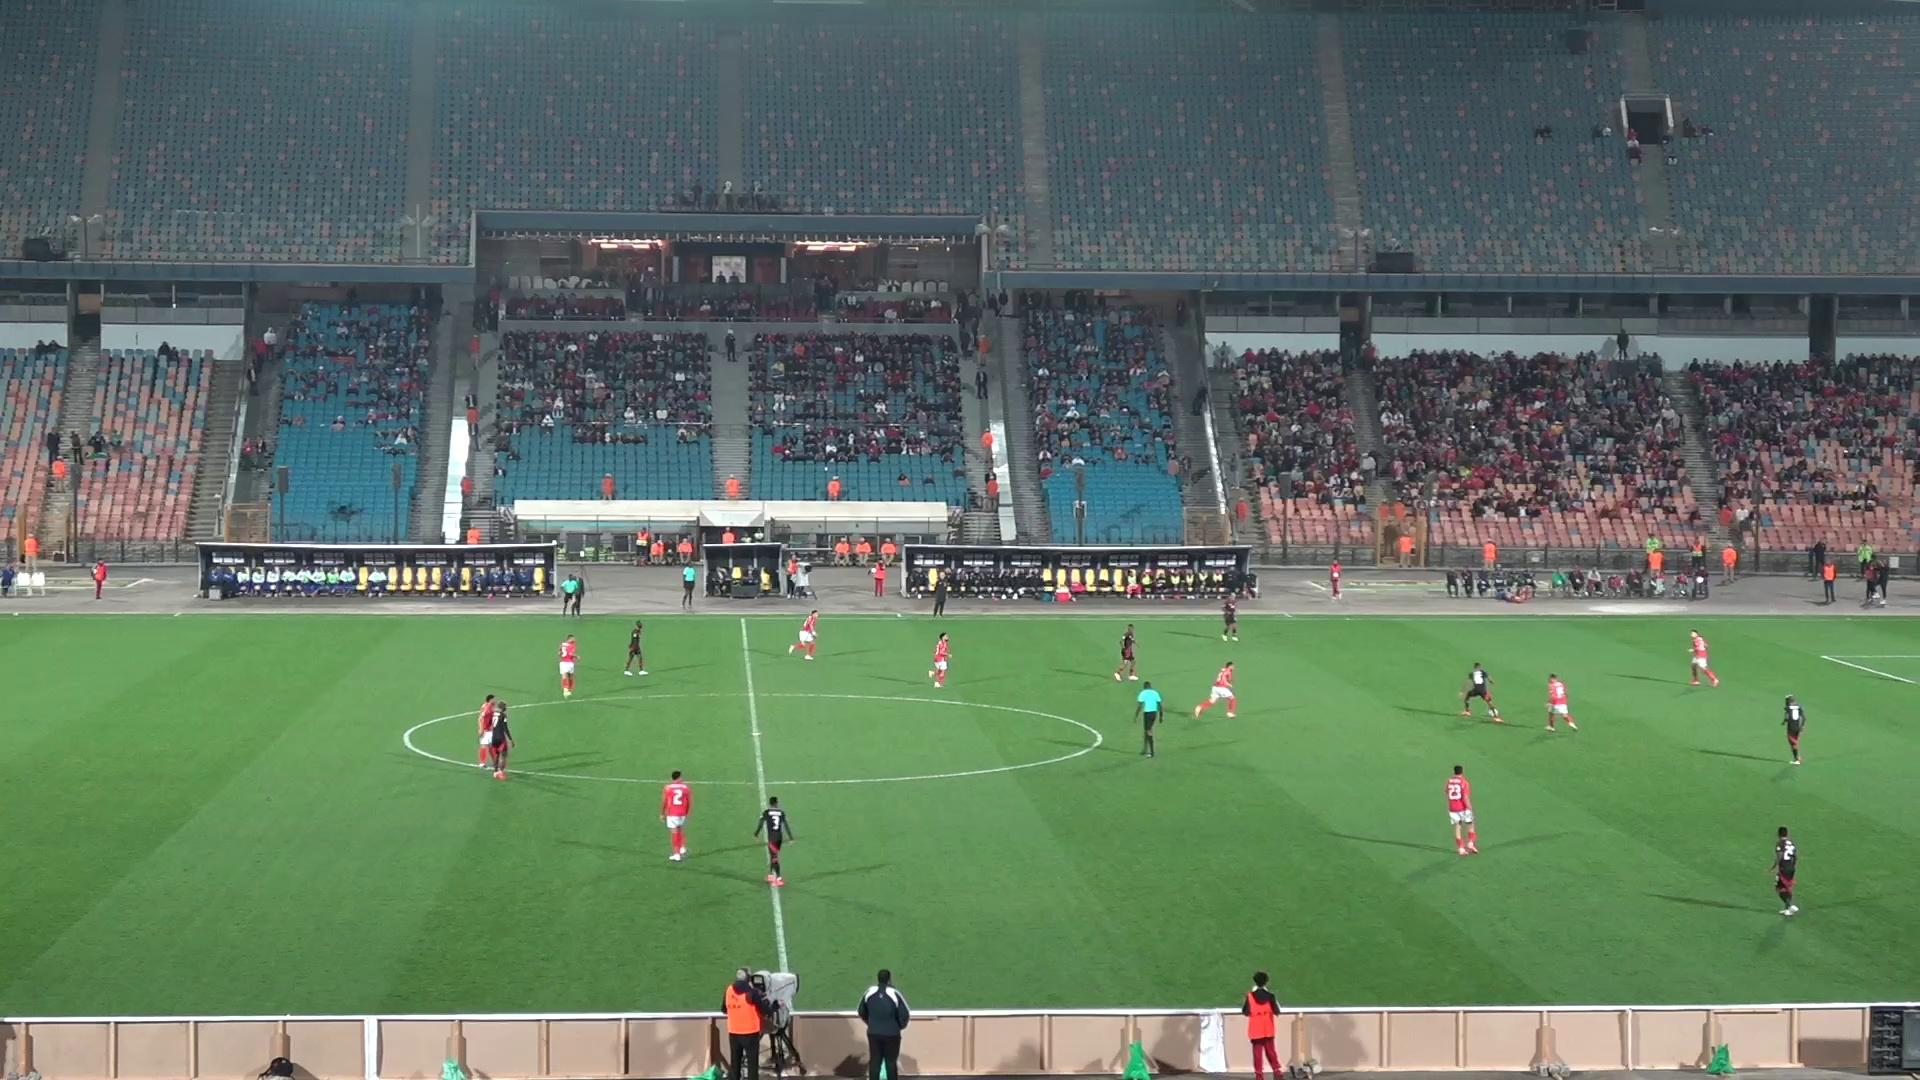Refree: (1133, 680, 1163, 757), (556, 574, 585, 616), (680, 559, 700, 612)
Team1: (1443, 765, 1480, 855), (659, 770, 692, 862), (1192, 662, 1236, 717), (477, 694, 504, 778), (1545, 674, 1578, 731), (1689, 632, 1720, 687), (789, 611, 820, 659), (926, 632, 951, 688), (558, 634, 579, 698)
Team2: (754, 796, 793, 884), (1770, 828, 1800, 916), (1461, 663, 1505, 723), (1780, 694, 1807, 765), (491, 698, 513, 779), (1112, 625, 1138, 680), (622, 621, 647, 675), (1221, 596, 1240, 641)
